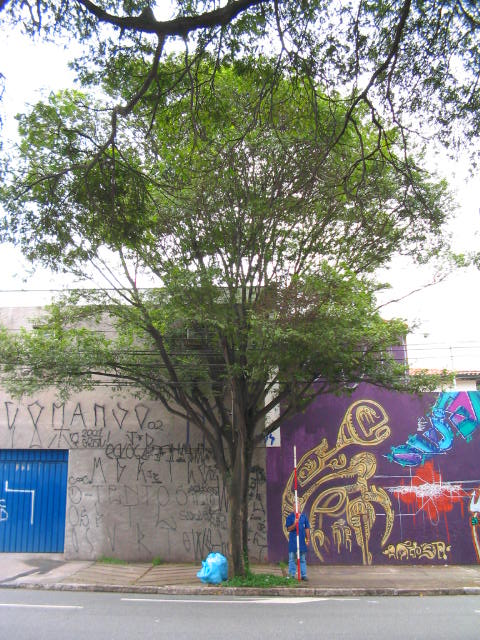crown: (4, 42, 468, 414)
stem: (213, 487, 263, 578)
stick: (288, 445, 304, 583)
tree: (1, 40, 468, 580)
